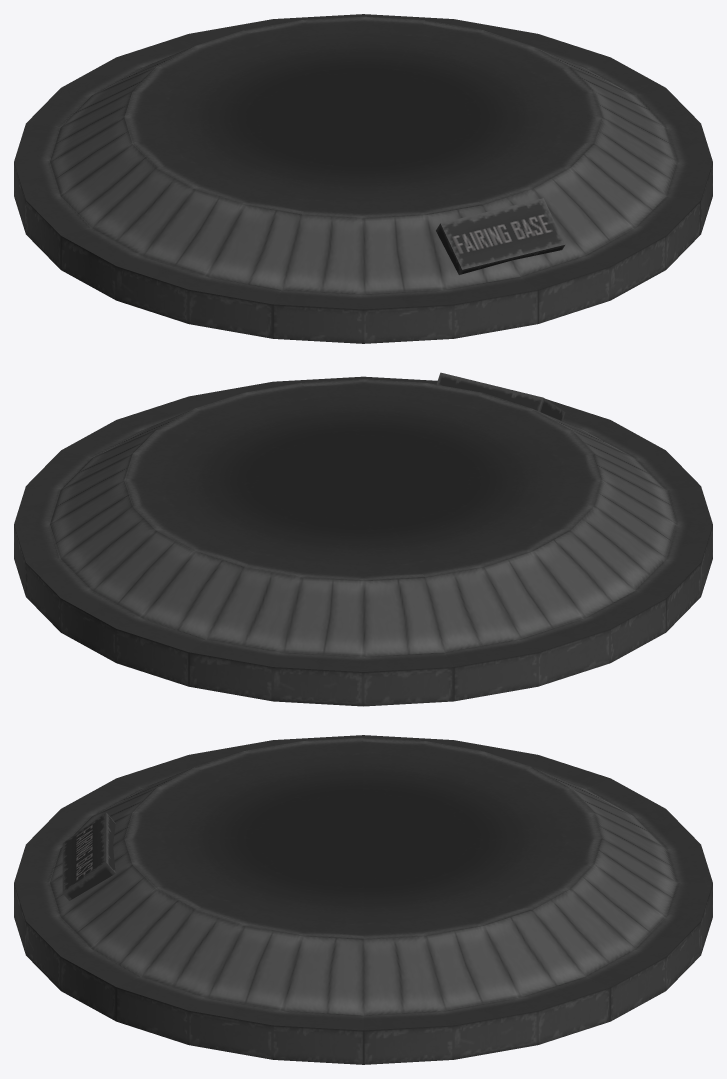
File: FairingBase.dae
3 views of the same model, one above another, from view 1: azimuth 30°, elevation 25°; view 2: azimuth 150°, elevation 25°; view 3: azimuth 270°, elevation 25° (orthographic).
Parts seen in each view (by area): view 1: fairing_base, pCube7; view 2: fairing_base, pCube7; view 3: fairing_base, pCube7.
Boxes of the visible parts, x1=… form: fairing_base: x1=14, y1=14, x2=712, y2=343; pCube7: x1=436, y1=198, x2=565, y2=274; fairing_base: x1=14, y1=376, x2=712, y2=706; pCube7: x1=436, y1=372, x2=565, y2=420; fairing_base: x1=14, y1=735, x2=712, y2=1064; pCube7: x1=62, y1=812, x2=115, y2=900.
Bounding box in the file's own units: 1.84 × 0.2313 × 1.84.
